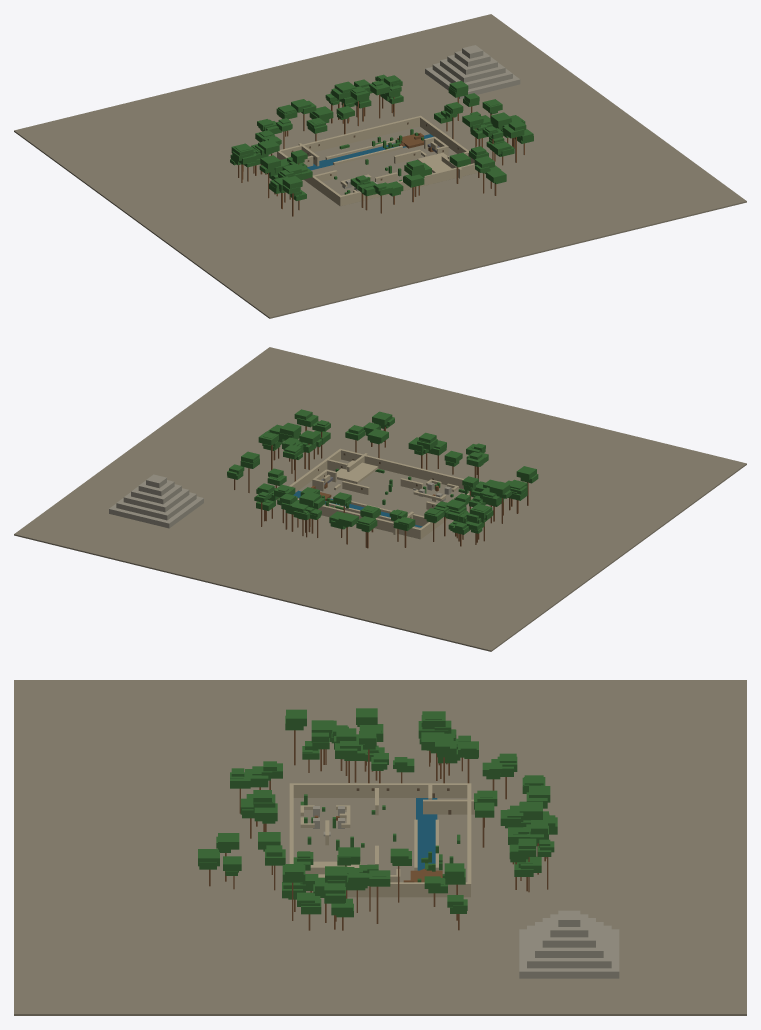
Rendered from de_aq_aztec.glb.
3 renders of one model, top to bottom at view 1: azimuth 30°, elevation 25°; view 2: azimuth 150°, elevation 25°; view 3: azimuth 270°, elevation 25°, orthographic. The views are drawn at different scales.
Visible parts, largest first — view 1: skyline, de_aq_aztec; view 2: skyline, de_aq_aztec; view 3: skyline, de_aq_aztec.
Part boxes in pixels (bbox=[...]): skyline: bbox=[14, 14, 746, 318]; de_aq_aztec: bbox=[277, 115, 477, 206]; skyline: bbox=[14, 347, 746, 651]; de_aq_aztec: bbox=[277, 448, 473, 539]; skyline: bbox=[14, 680, 746, 1015]; de_aq_aztec: bbox=[289, 783, 474, 897].
Bounding box in the file's own units: 14224 × 1138 × 13200.
